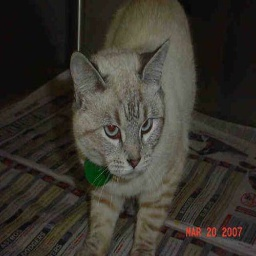cat: (65, 9, 197, 254)
